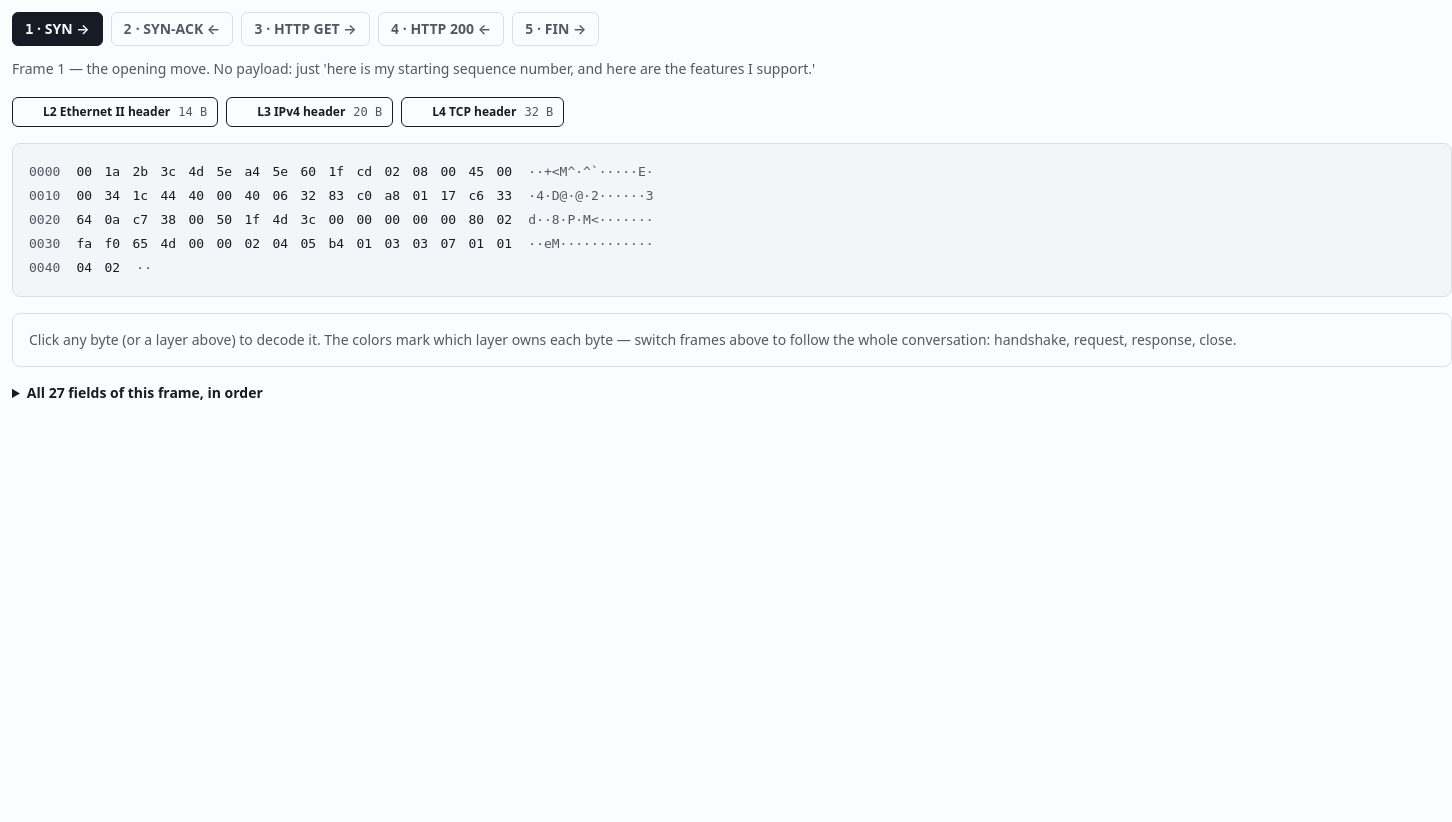
Test: PacketWalkthrough › shows readable HTML in the response payload
Click the button "4 · HTTP 200 ←" at point(441, 29), box 378,12 -> 504,46
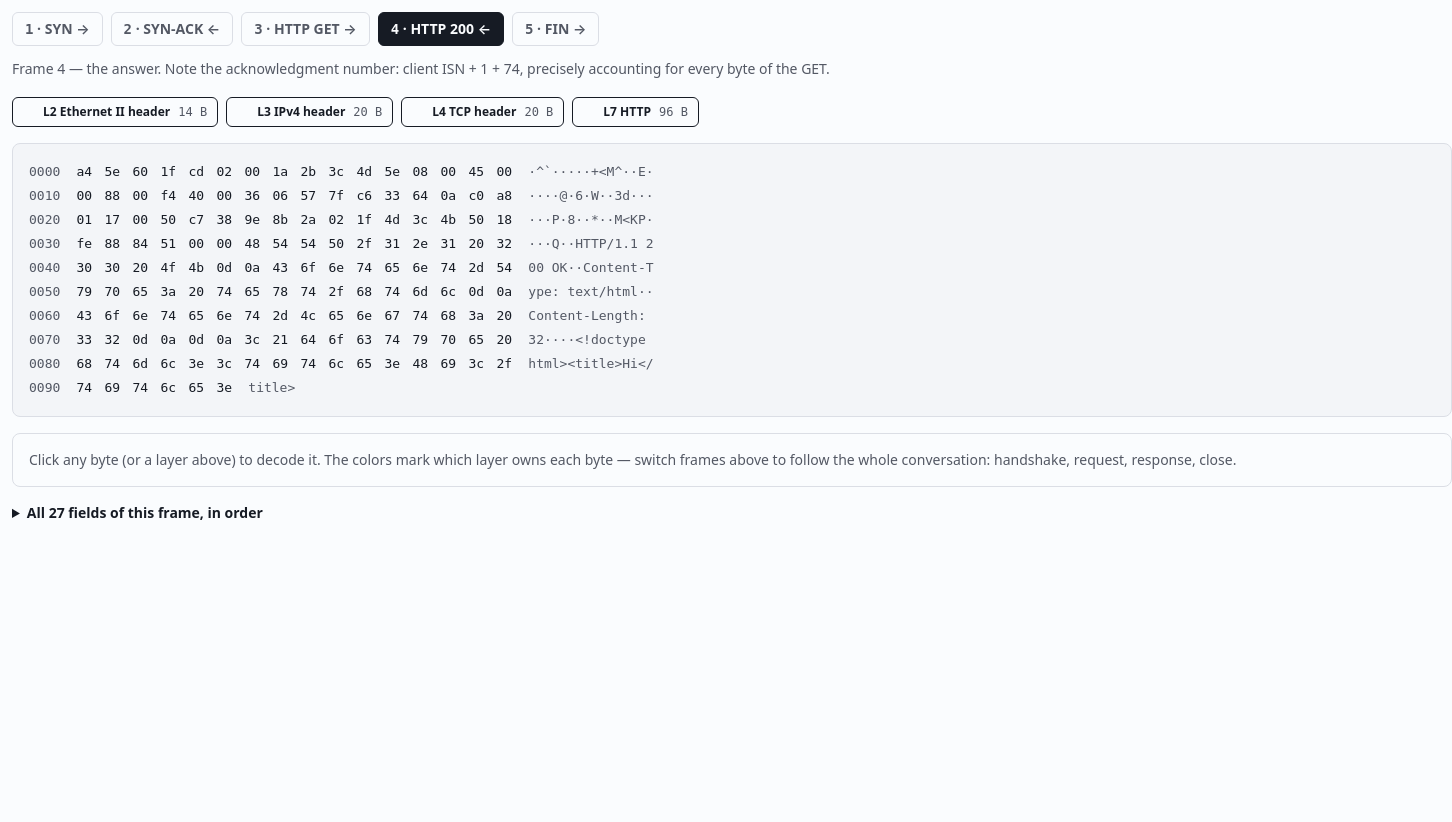
Click the button "3c" in the row of "0070" at point(252, 340), box 240,328 -> 264,352
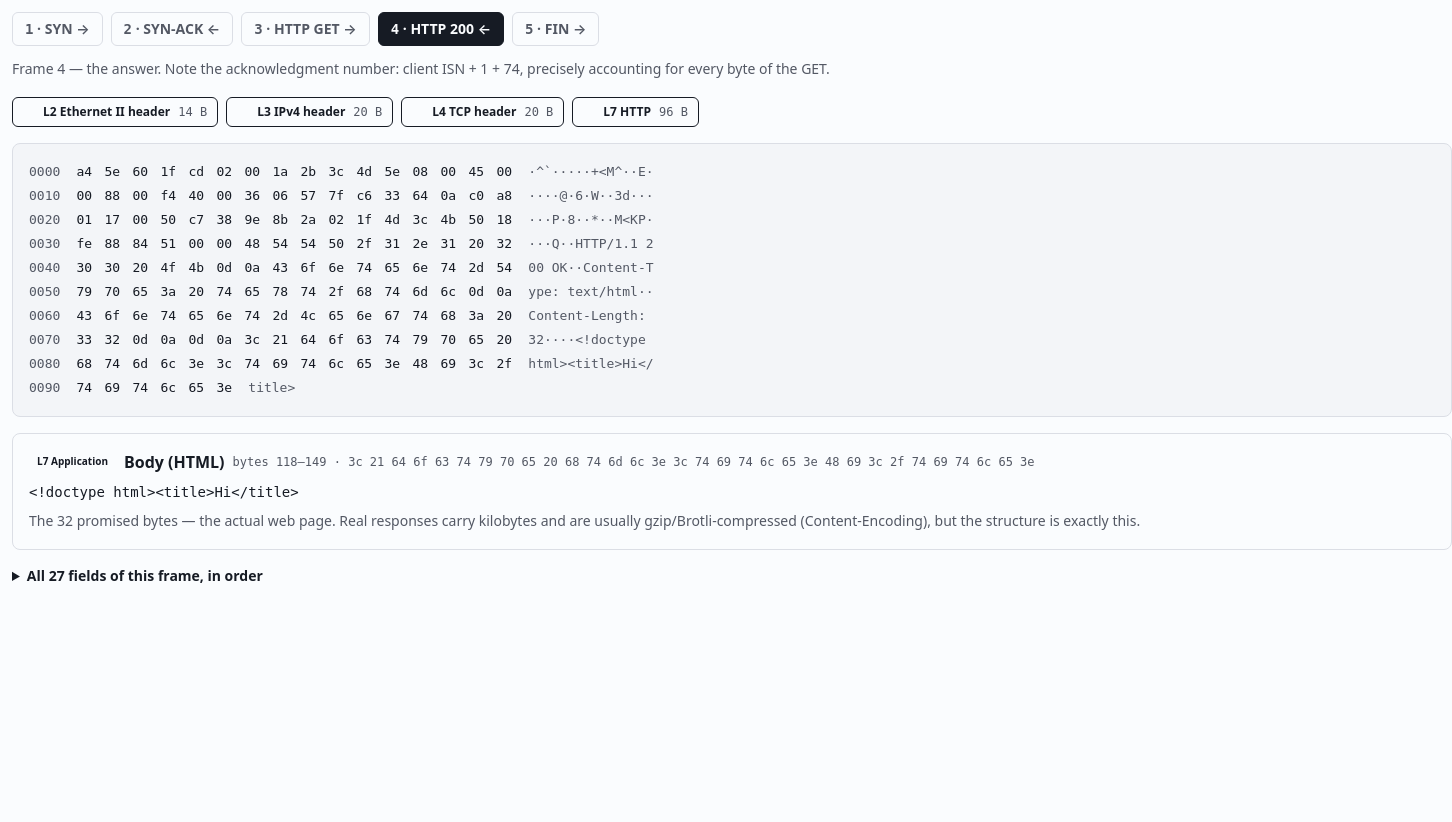
Result: the text "Body (HTML)" is shown at 124,450 -> 224,474
Result: the text "L7 Application" is shown at 37,454 -> 108,468
